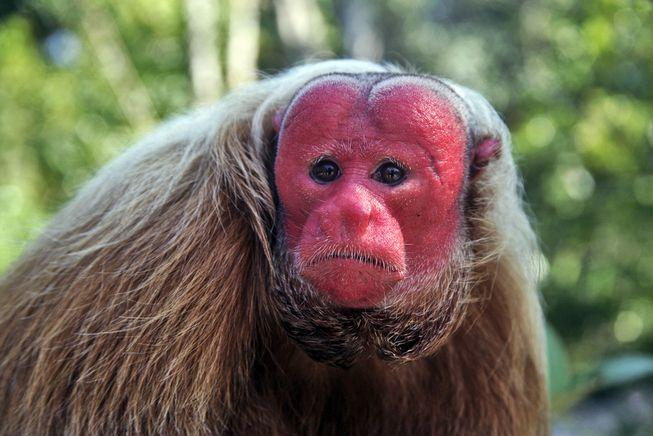monkey: (0, 59, 553, 436)
